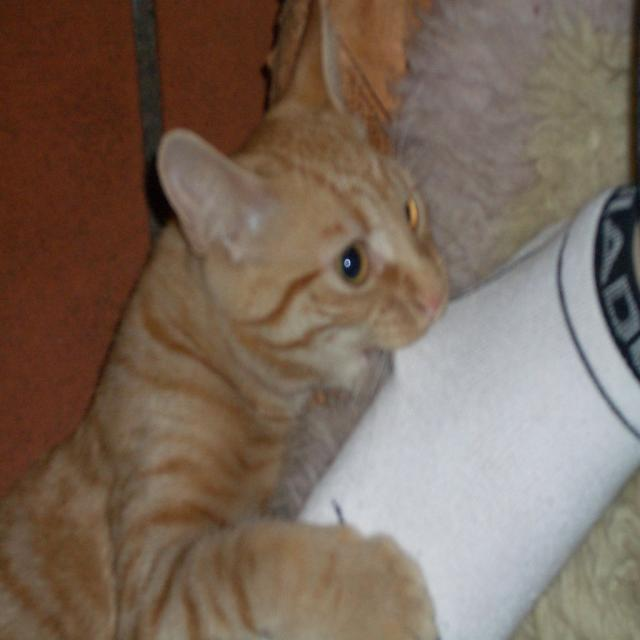Cat: (0, 0, 451, 639)
